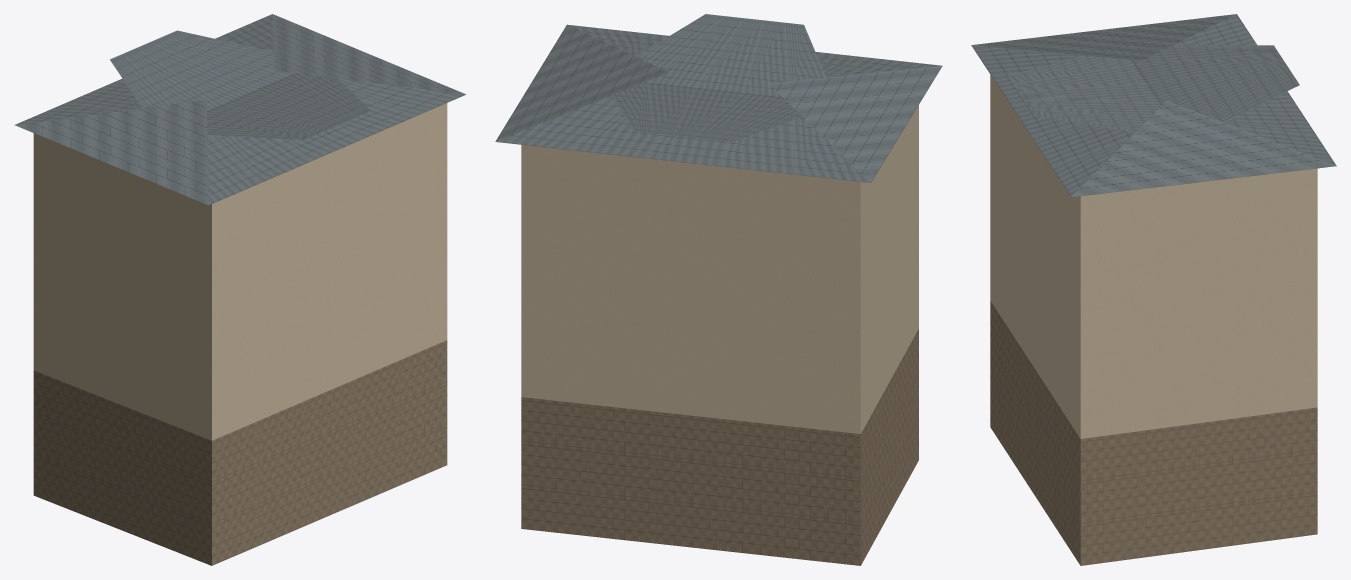
The model's file is bld_c5_10_477.gltf.
3 renders of one model, left to right at view 1: azimuth 30°, elevation 25°; view 2: azimuth 150°, elevation 25°; view 3: azimuth 270°, elevation 25°, orthographic. The views are drawn at different scales.
Visible parts, largest first — view 1: bld_c5_10_477; view 2: bld_c5_10_477; view 3: bld_c5_10_477.
Part boxes in pixels (x1,y1,x2,y2): bld_c5_10_477: [15, 14, 465, 565]; bld_c5_10_477: [495, 14, 942, 565]; bld_c5_10_477: [971, 14, 1336, 565].
Size of the model in its own units: 15.8 by 16.1 by 13.32.
Materials: 3 (3 with a texture image).
